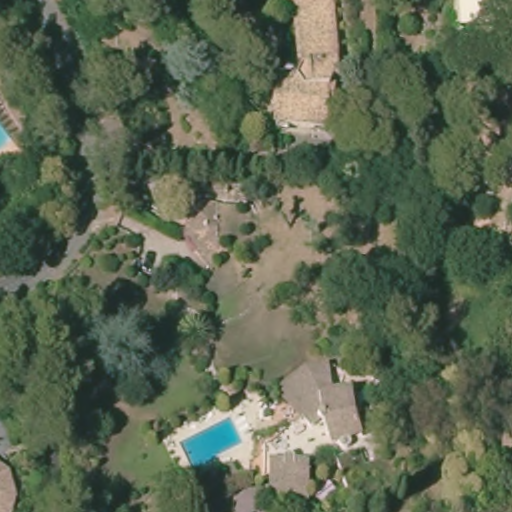pool: (177, 415, 243, 472)
